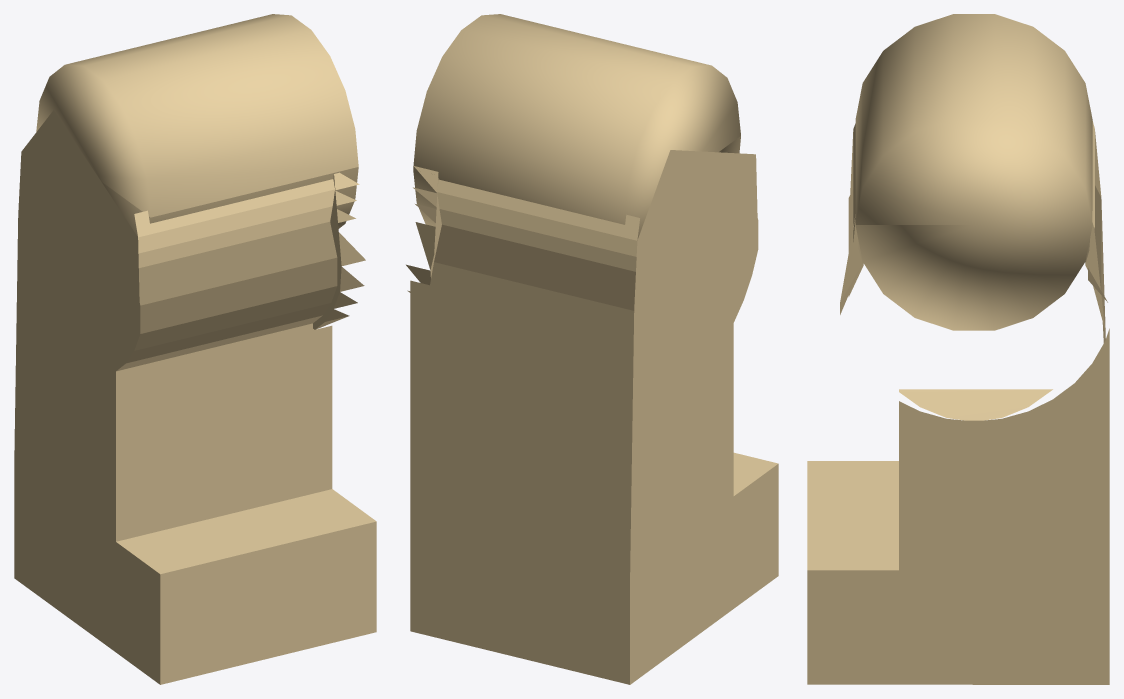
Rendered from legL.glb.
3 views of the same model, side by side, from view 1: azimuth 30°, elevation 25°; view 2: azimuth 150°, elevation 25°; view 3: azimuth 270°, elevation 25° (orthographic). The views are drawn at different scales.
Parts seen in each view (by area): view 1: quill_legL; view 2: quill_legL; view 3: quill_legL.
Part boxes in pixels (x1,y1,x2,y2): quill_legL: (14, 14, 376, 684); quill_legL: (406, 14, 778, 684); quill_legL: (807, 14, 1109, 684).
Bounding box in the file's own units: 0.3056 × 0.7237 × 0.3488.
